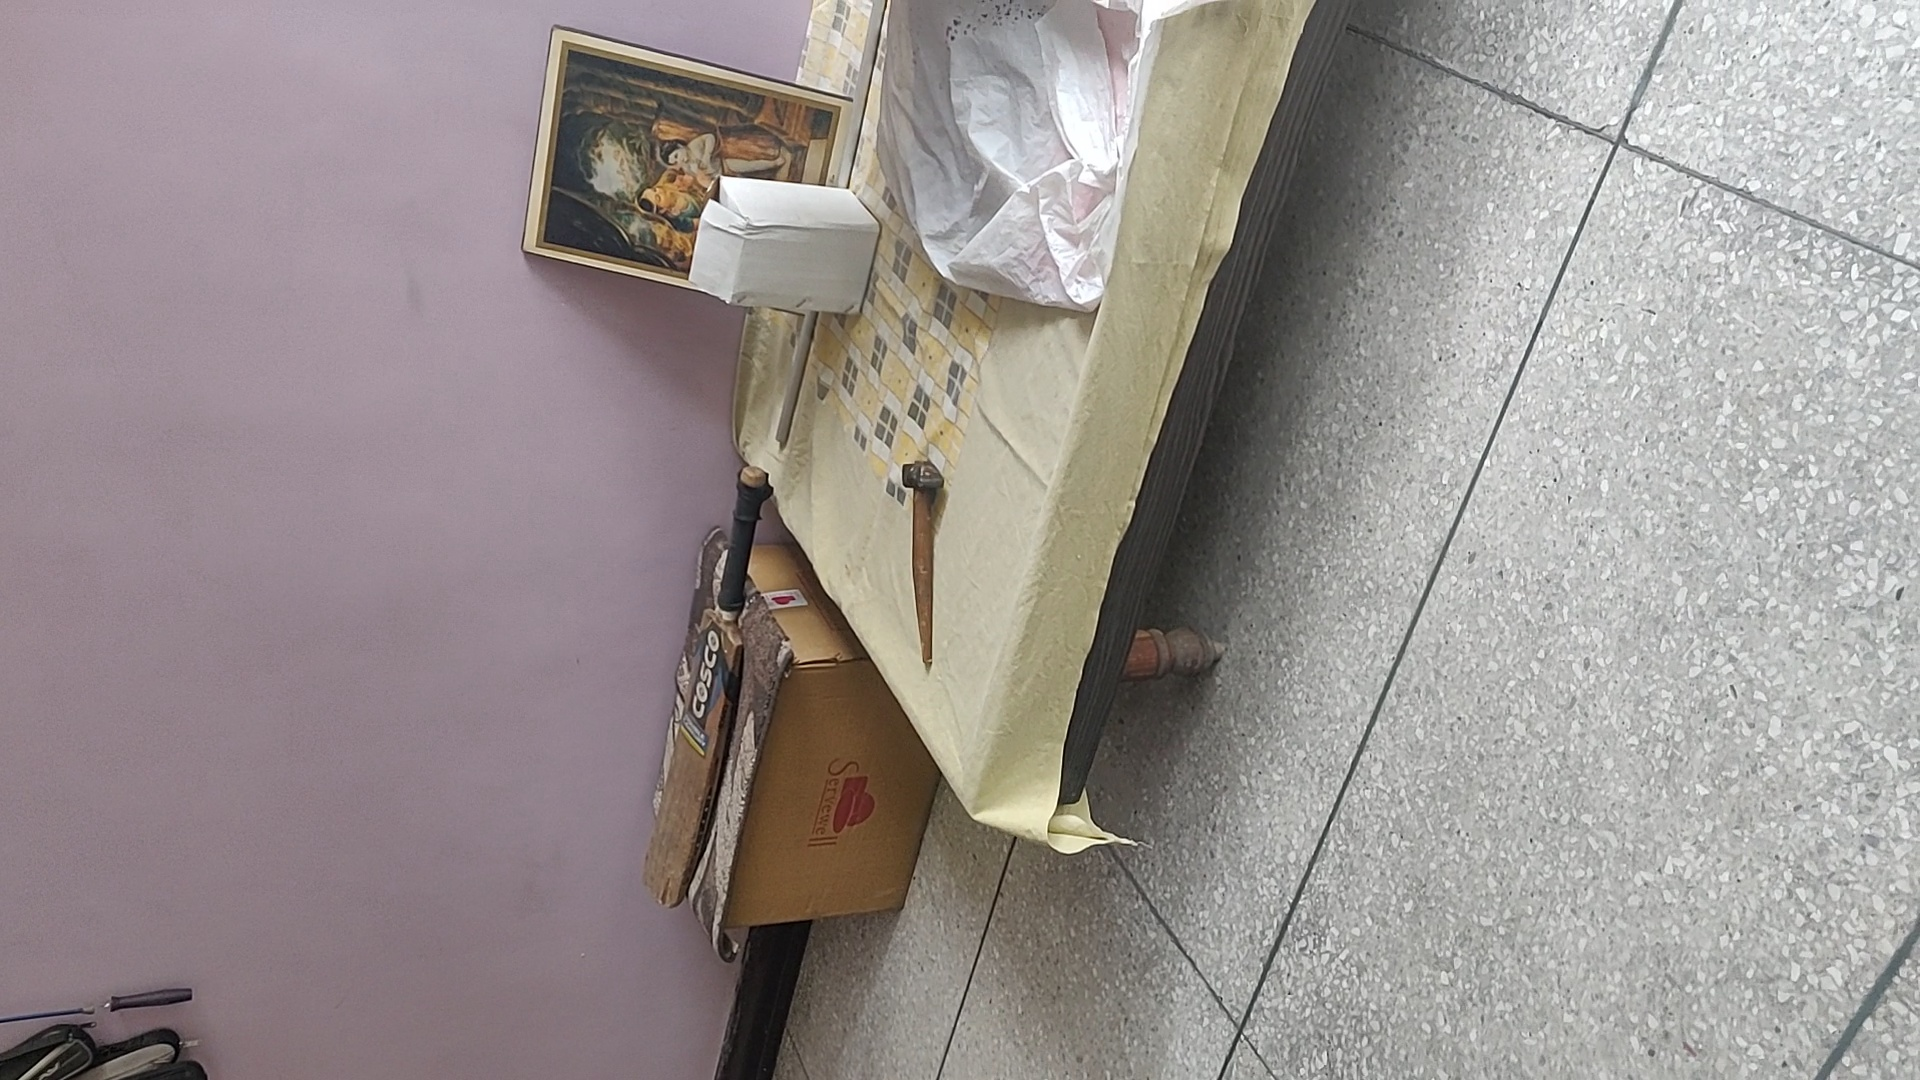hammer: (899, 458, 944, 669)
